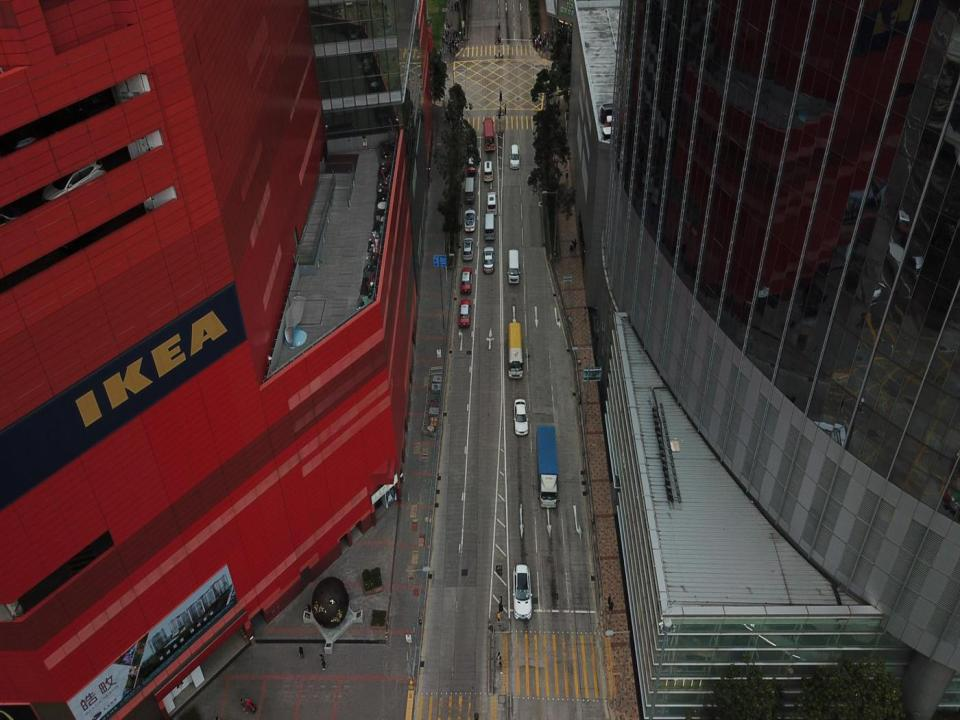bus: (506, 321, 526, 381), (480, 116, 496, 153)
car: (512, 564, 534, 620), (601, 99, 630, 122), (599, 126, 635, 144), (513, 398, 529, 437), (605, 111, 631, 130), (460, 266, 473, 295), (482, 246, 494, 275), (459, 299, 471, 328), (461, 235, 474, 261), (509, 143, 521, 171), (486, 189, 498, 217), (463, 208, 476, 232), (483, 160, 493, 182), (466, 154, 476, 176)
truck: (535, 425, 558, 509)
van: (506, 248, 521, 284), (464, 176, 476, 204), (484, 213, 495, 241)
